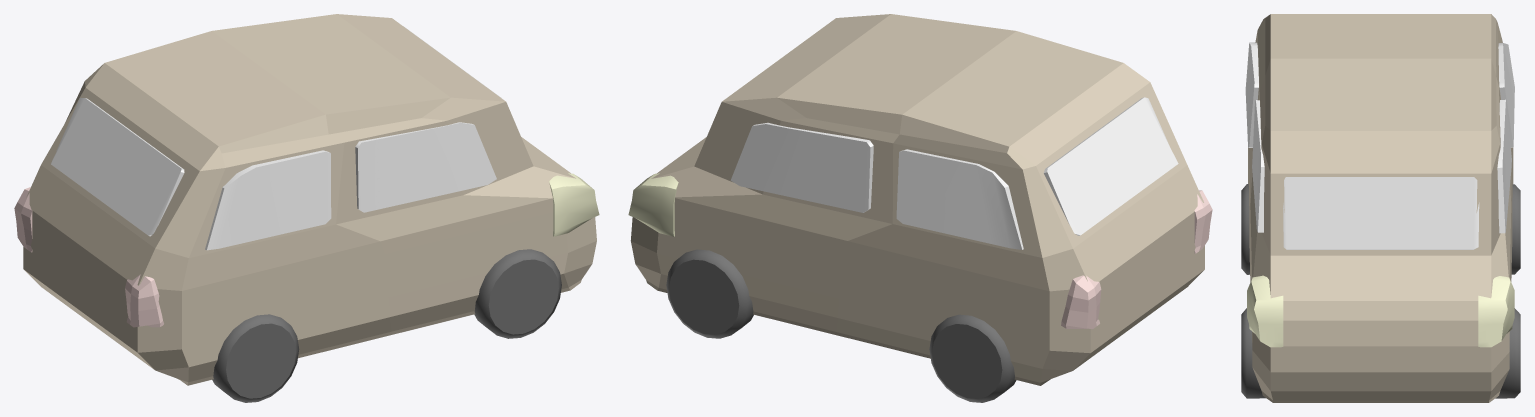
Rendered from CarroVeige.fbx.
The picture shows the model from 3 angles, left to right: view 1: azimuth 30°, elevation 25°; view 2: azimuth 150°, elevation 25°; view 3: azimuth 270°, elevation 25°; orthographic projection. The views are drawn at different scales.
Visible parts, largest first — view 1: pCube1, pCube10, pCube8, pCube7, pCylinder1, pCylinder2, pCube11, pCube9; view 2: pCube1, pCube10, pCube12, pCube4, pCylinder3, pCylinder4, pCube11, pCube9; view 3: pCube1, pCube6, pCube9, pCube12, pCube8, pCylinder3, pCylinder1, pCube4, pCube7, pCylinder4, pCylinder2.
Boxes of the visible parts, x1,y1,x2,y2 form: pCube1: [23, 14, 596, 385]; pCube10: [51, 98, 184, 236]; pCube8: [355, 122, 496, 212]; pCube7: [205, 150, 331, 250]; pCylinder1: [474, 249, 561, 338]; pCylinder2: [212, 314, 299, 402]; pCube11: [14, 187, 163, 327]; pCube9: [549, 173, 599, 236]; pCube1: [630, 14, 1204, 385]; pCube10: [1043, 97, 1178, 235]; pCube12: [730, 122, 873, 212]; pCube4: [896, 149, 1023, 249]; pCylinder3: [666, 249, 753, 338]; pCylinder4: [929, 314, 1016, 402]; pCube11: [1061, 190, 1212, 329]; pCube9: [628, 173, 678, 236]; pCube1: [1248, 14, 1513, 402]; pCube6: [1283, 177, 1479, 249]; pCube9: [1247, 275, 1514, 347]; pCube12: [1497, 99, 1511, 233]; pCube8: [1252, 100, 1264, 232]; pCylinder3: [1495, 308, 1520, 398]; pCylinder1: [1241, 308, 1265, 398]; pCube4: [1498, 42, 1514, 147]; pCube7: [1245, 42, 1258, 147]; pCylinder4: [1511, 184, 1520, 274]; pCylinder2: [1241, 184, 1249, 274].
Bounding box in the file's own units: 20.49 × 10.94 × 11.09.
